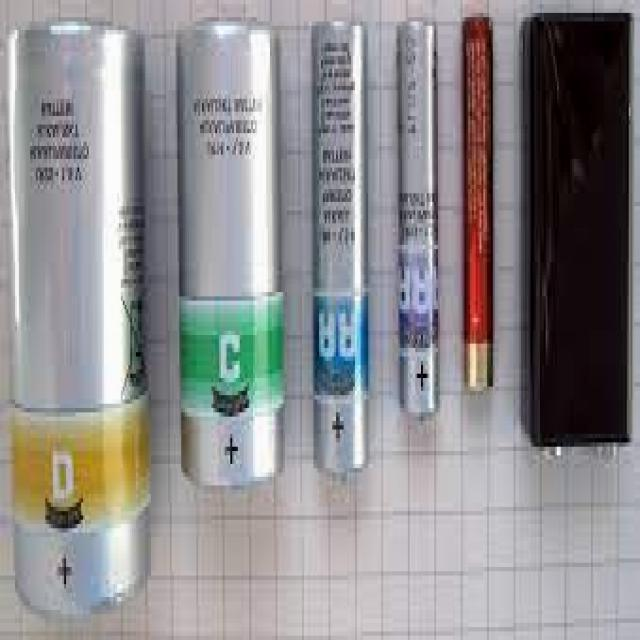battery: (5, 20, 152, 619), (175, 18, 284, 490), (522, 14, 633, 462), (312, 20, 369, 483), (396, 20, 440, 422), (464, 17, 494, 396)
